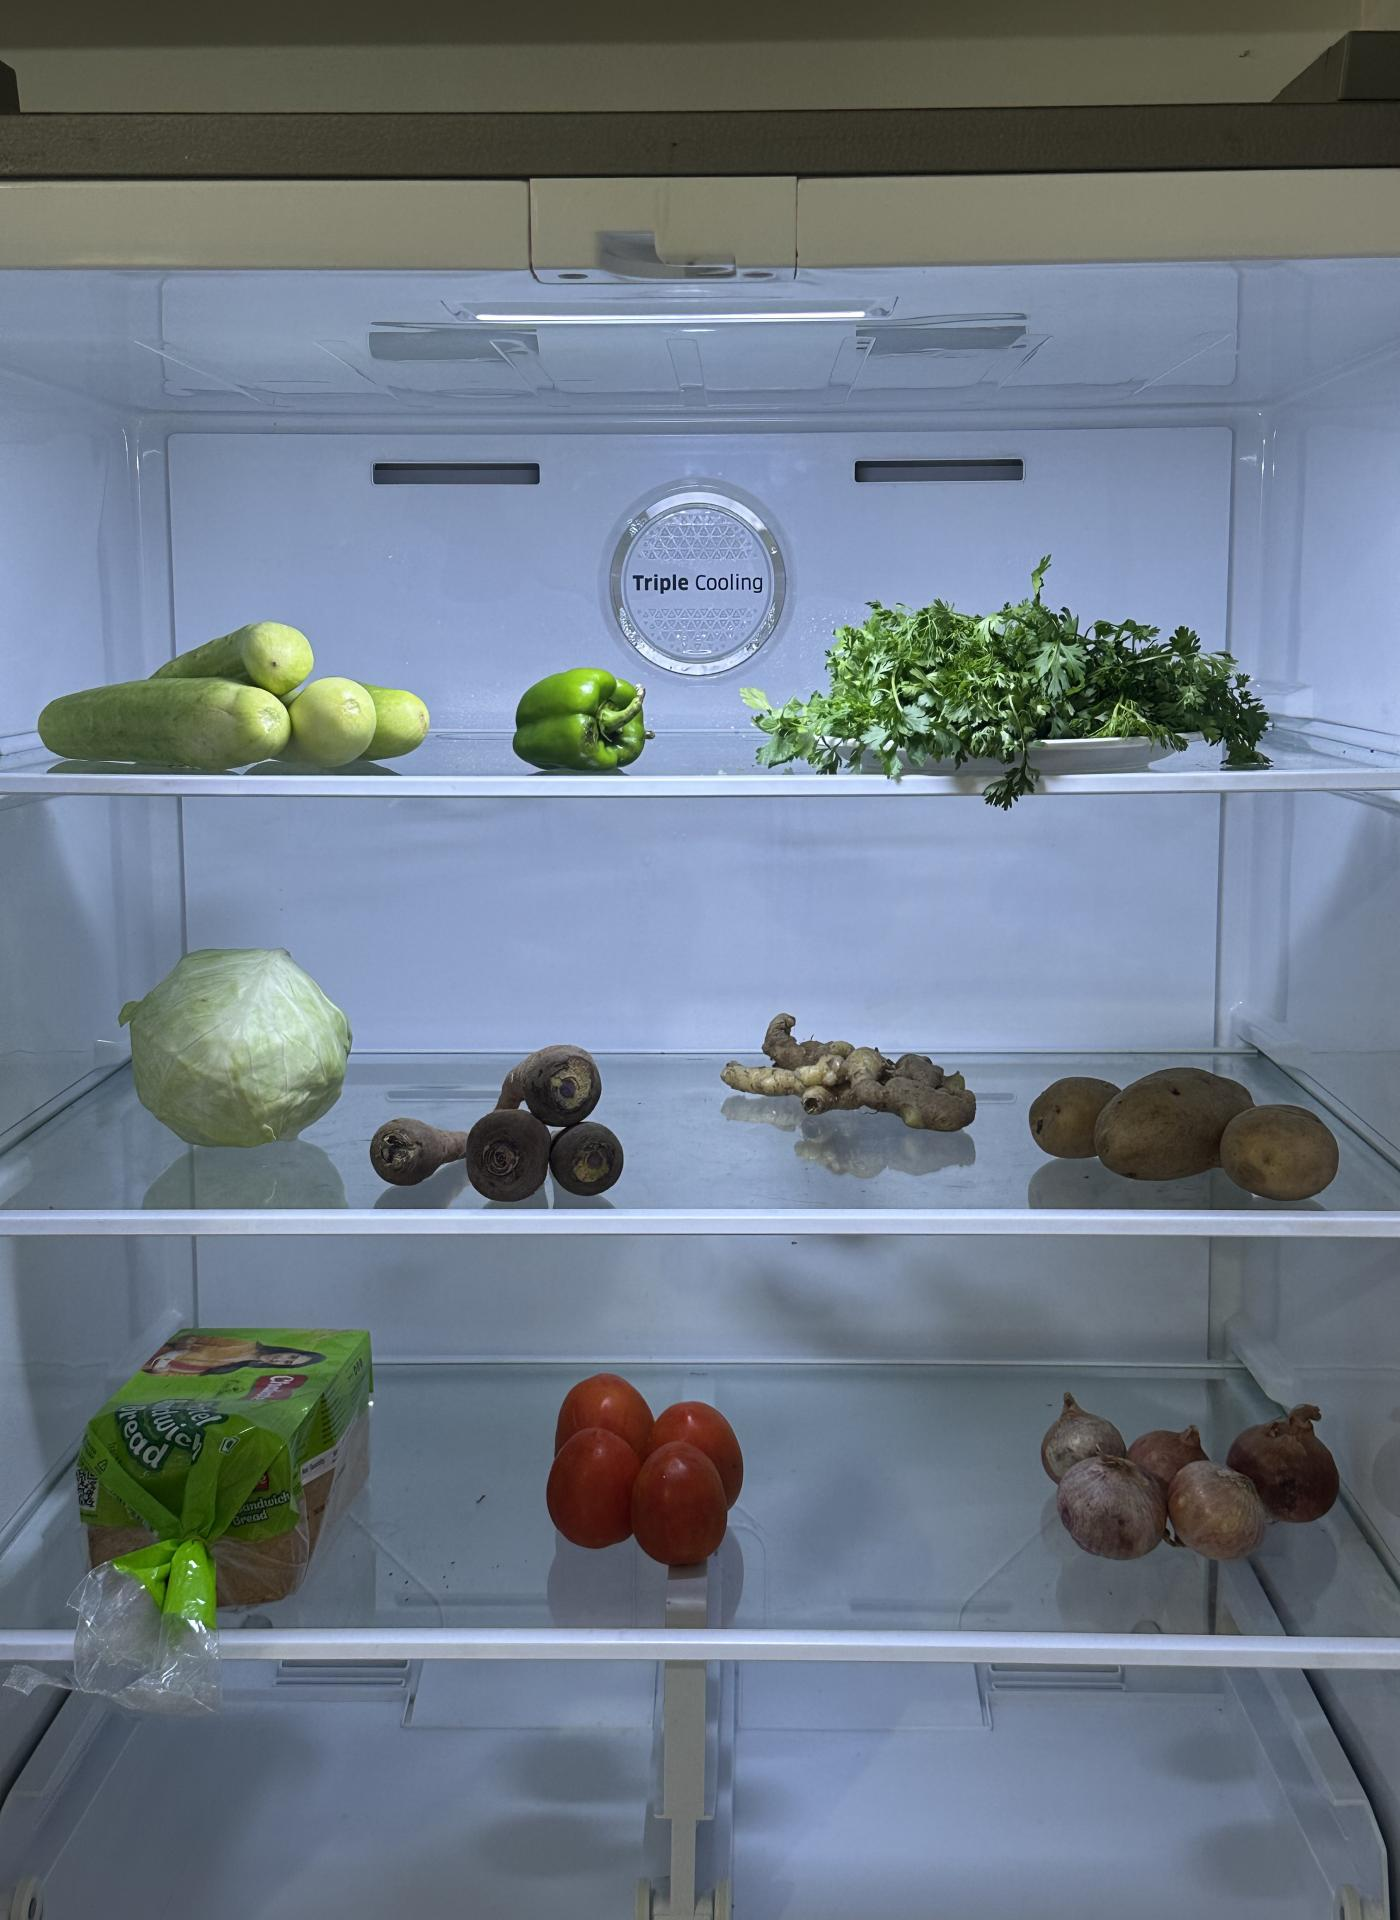bread: (69, 1316, 377, 1611)
cabbage: (121, 947, 356, 1152)
capsicum: (511, 665, 658, 772)
carrots: (370, 1035, 629, 1199)
coriander: (775, 596, 1264, 774)
cucumber: (42, 628, 435, 795)
ginger: (722, 1020, 981, 1139)
onion: (1044, 1385, 1346, 1564)
potato: (1032, 1054, 1343, 1193)
tomato: (546, 1370, 753, 1574)
